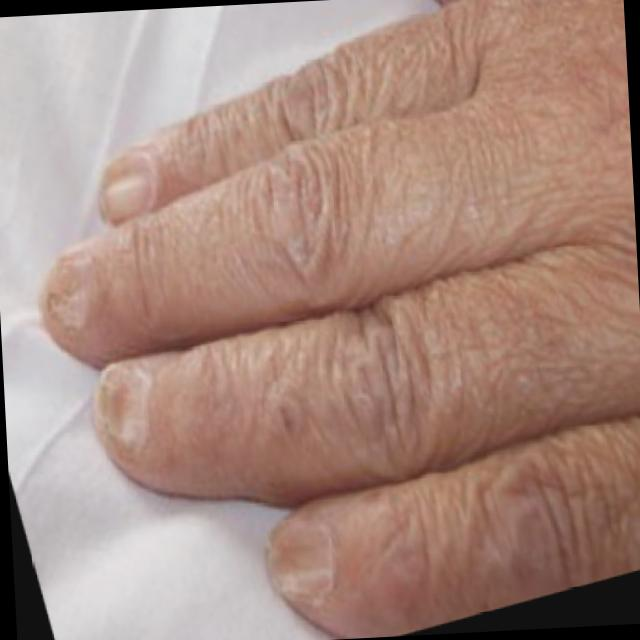Nail: (265, 517, 335, 602), (94, 364, 148, 452), (100, 149, 160, 225), (41, 251, 89, 345)
